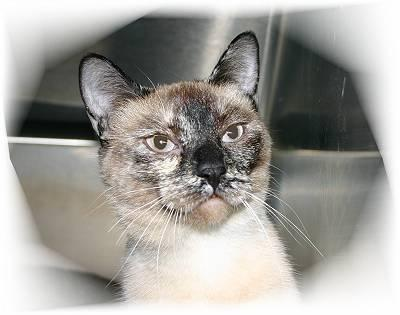cat: (81, 32, 296, 307)
